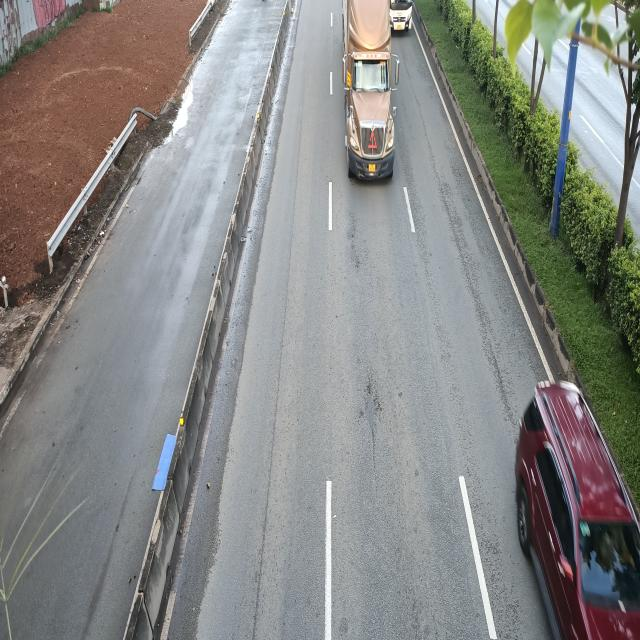car: (516, 375, 640, 636)
coach: (385, 0, 413, 34)
container: (342, 0, 400, 180)
